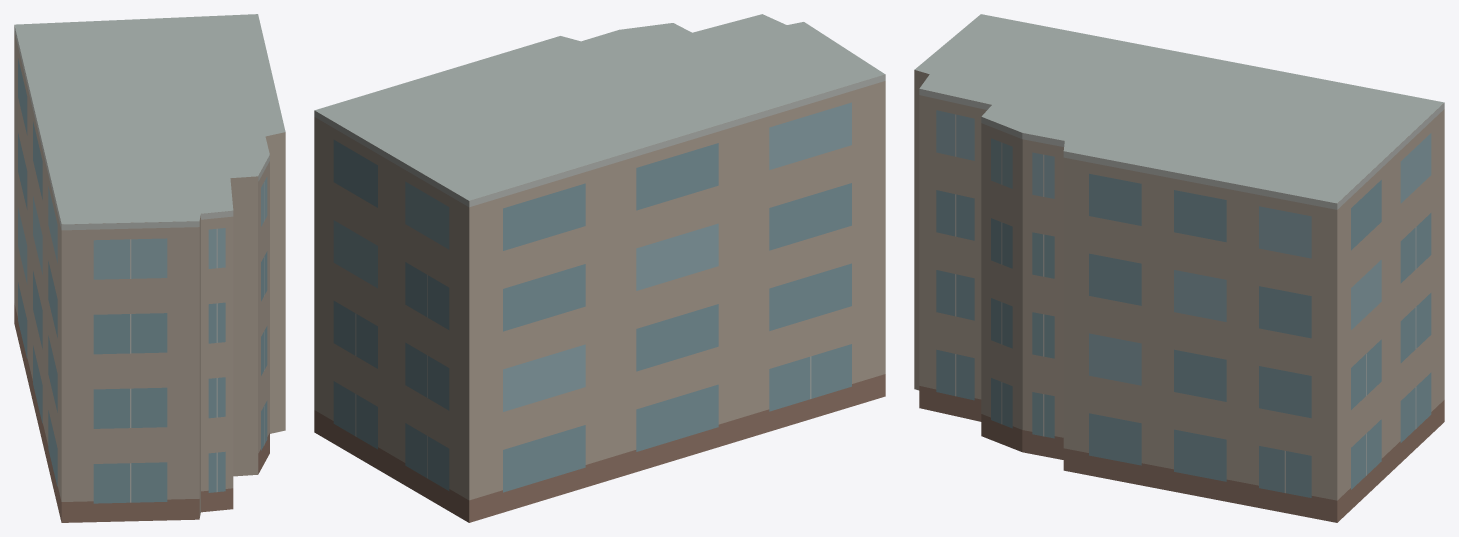
The model's file is survey-upis-32683746.glb.
3 renders of one model, left to right at view 1: azimuth 30°, elevation 25°; view 2: azimuth 150°, elevation 25°; view 3: azimuth 270°, elevation 25°, orthographic. The views are drawn at different scales.
Parts seen in each view (by area): view 1: survey-upis-32683746.tmp; view 2: survey-upis-32683746.tmp; view 3: survey-upis-32683746.tmp.
Boxes of the visible parts, left/top/right/bottom form: survey-upis-32683746.tmp: left=14, top=14, right=285, bottom=522; survey-upis-32683746.tmp: left=314, top=14, right=885, bottom=522; survey-upis-32683746.tmp: left=914, top=14, right=1444, bottom=522.
Size of the model in its own units: 15.53 by 12.2 by 18.37.
